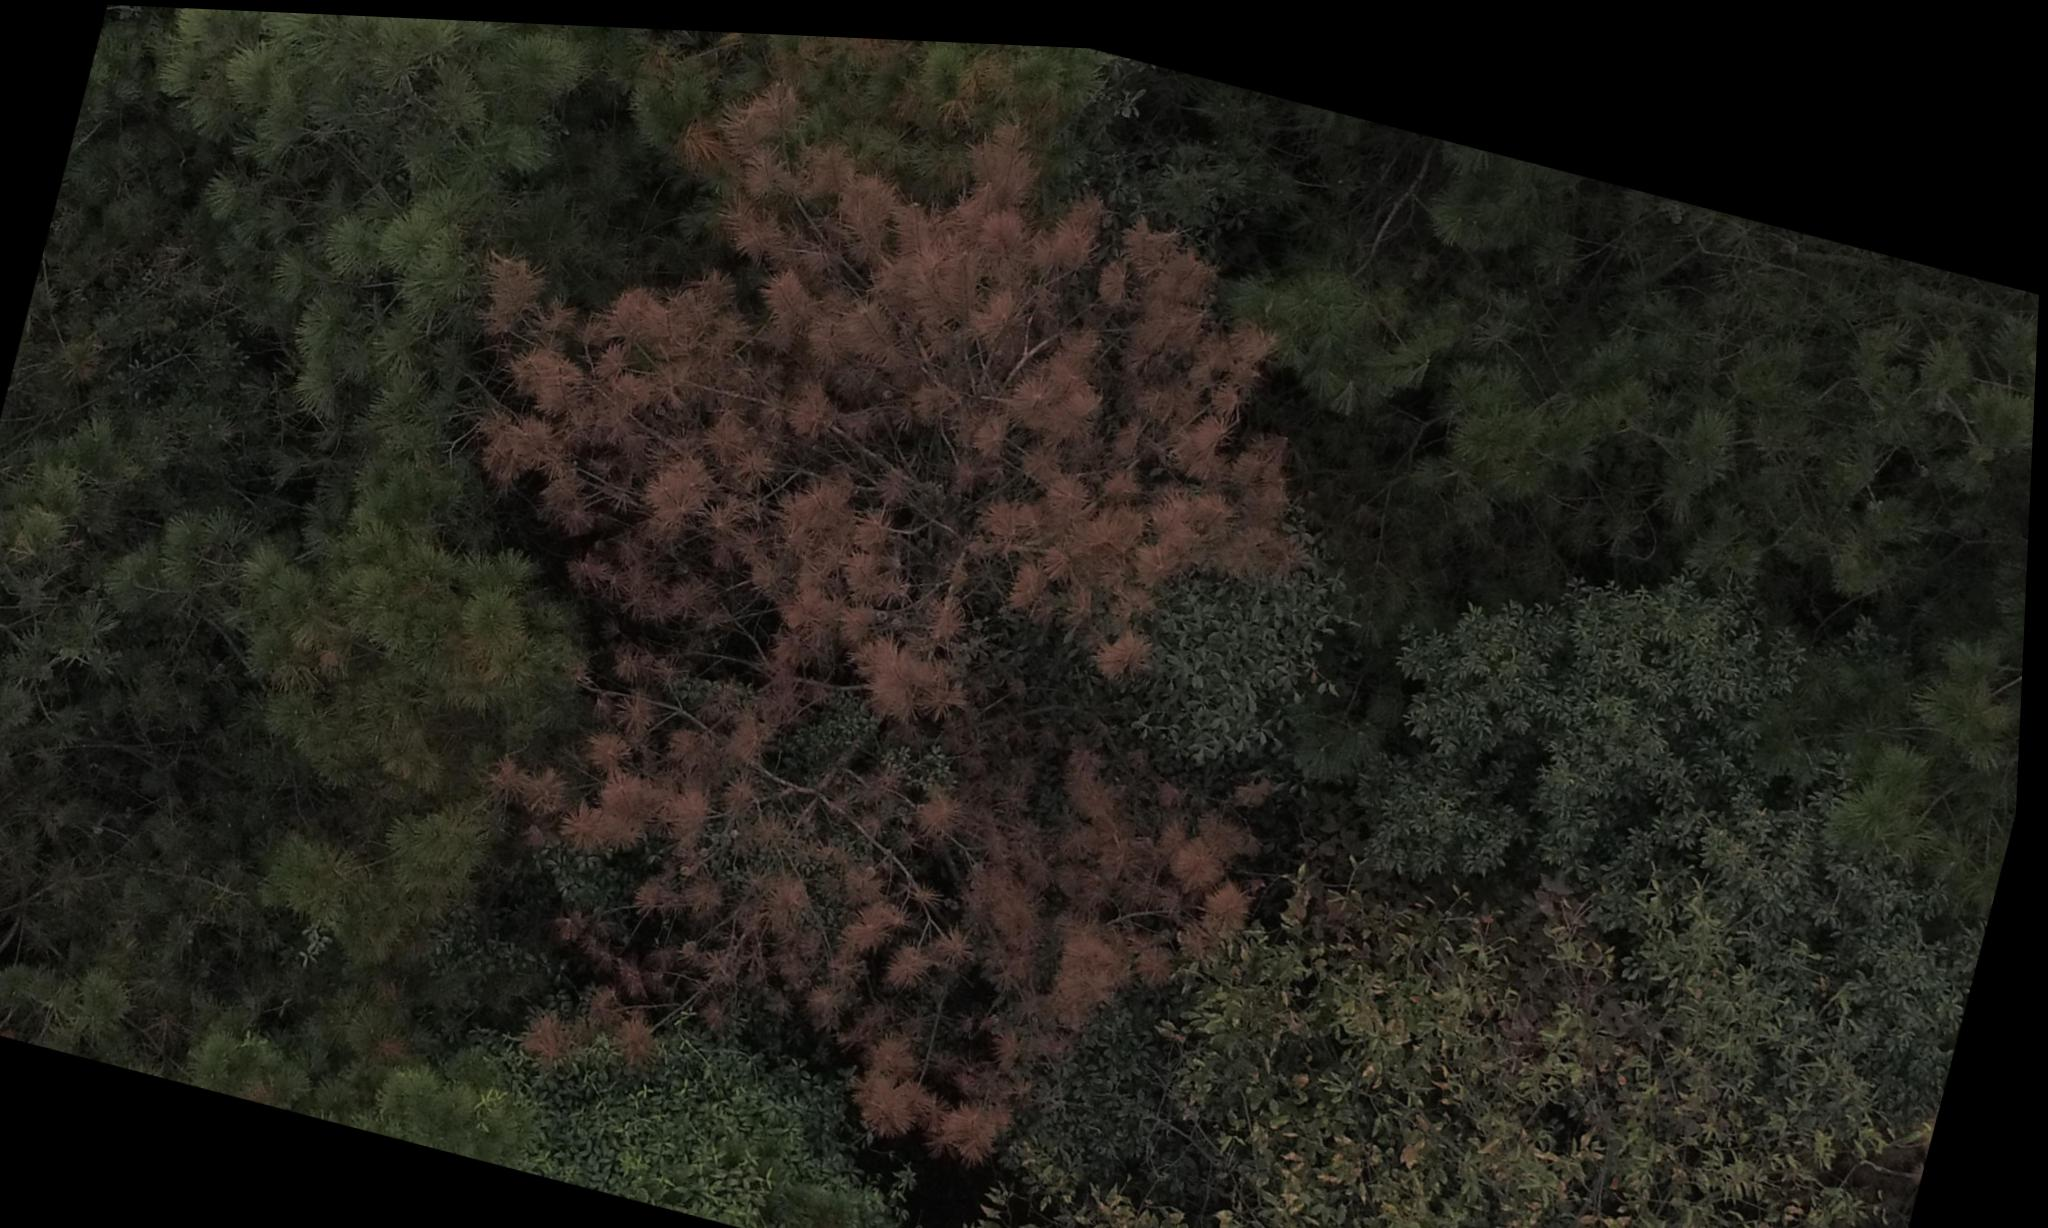heavy: (303, 12, 1474, 1228)
